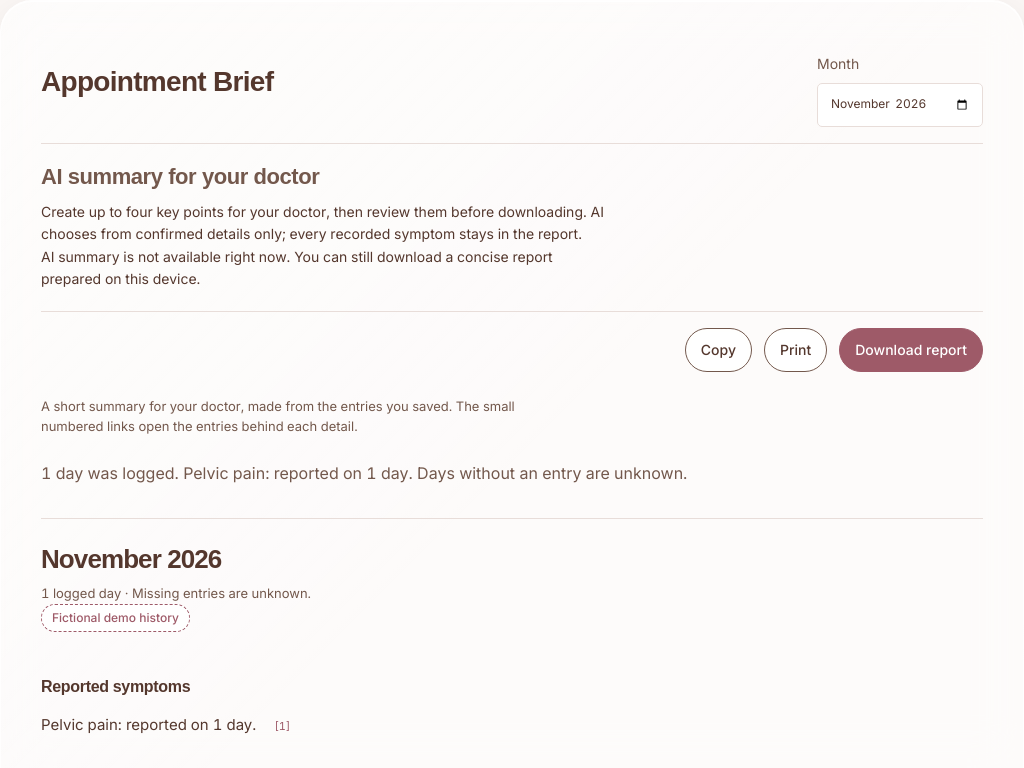
Test: filters by month and uses the exact empty message without contribution buttons
Replace the text in the field labelled "Month" with "2026-10" at (900, 105), box left=817, top=83, right=983, bottom=127
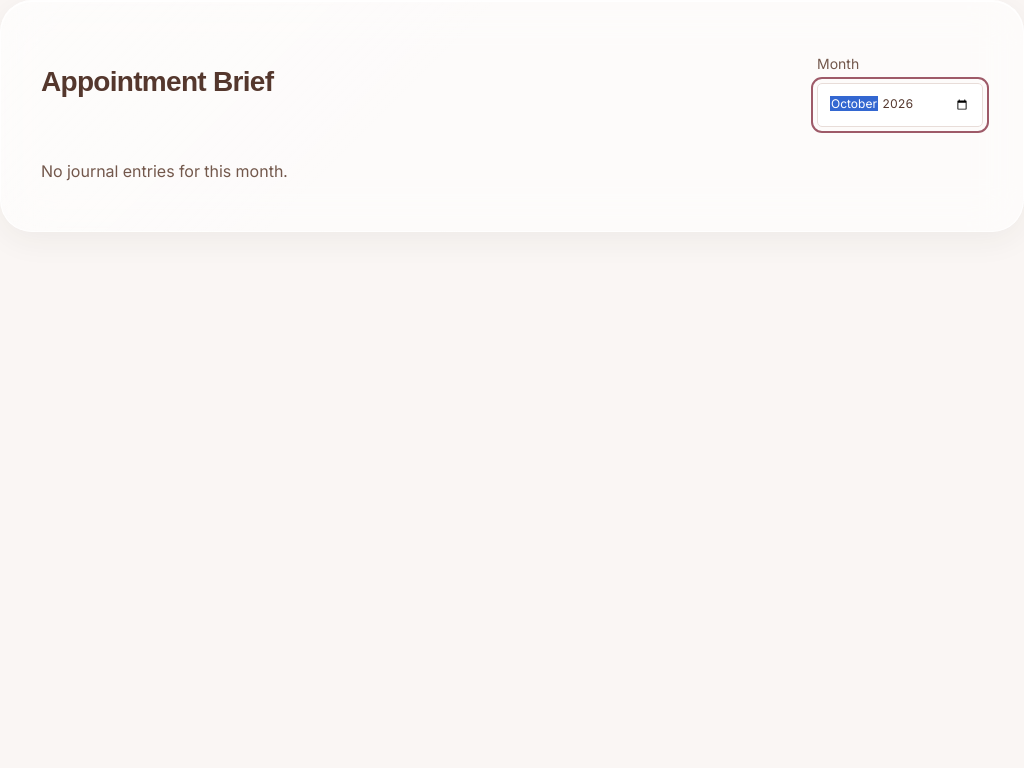
Expected: the button "Copy" is not shown
Expected: the text "No journal entries for this month." is shown, left=41, top=161, right=288, bottom=181
